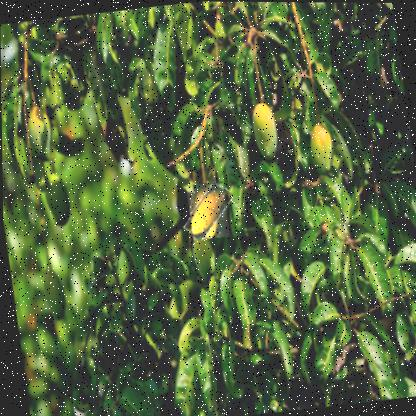mango: (185, 181, 230, 241)
